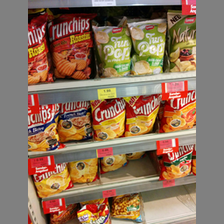chips: (48, 15, 92, 78), (91, 23, 131, 76), (128, 20, 166, 75), (28, 105, 63, 151), (124, 95, 162, 137), (33, 164, 75, 200), (160, 94, 197, 132), (91, 98, 124, 140), (59, 99, 90, 141), (160, 145, 193, 180)
